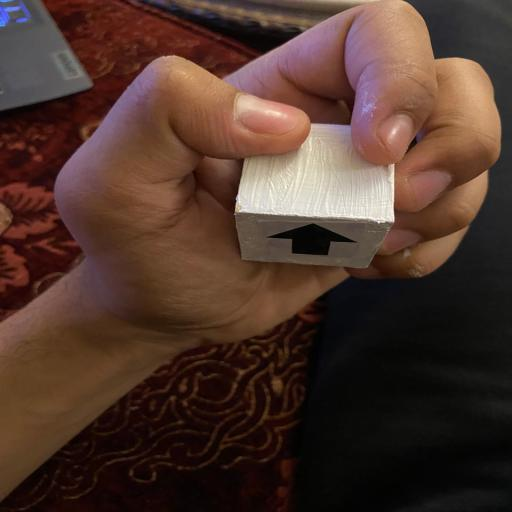Up: (228, 121, 400, 270)
